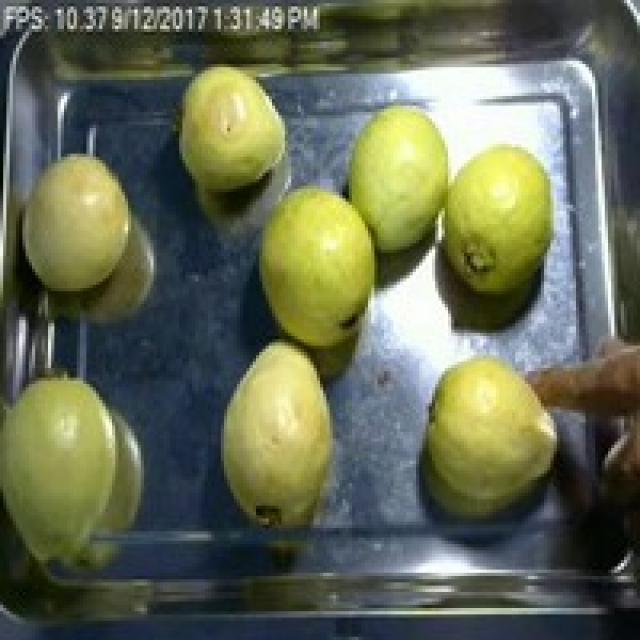Fruit: (413, 118, 582, 349), (0, 358, 160, 576), (410, 336, 579, 534), (211, 332, 349, 538), (250, 170, 394, 355), (333, 87, 477, 266), (6, 138, 144, 307), (163, 57, 301, 202)
